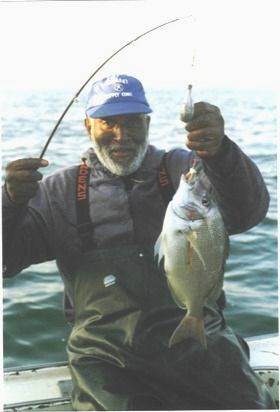fish: (152, 150, 247, 367)
